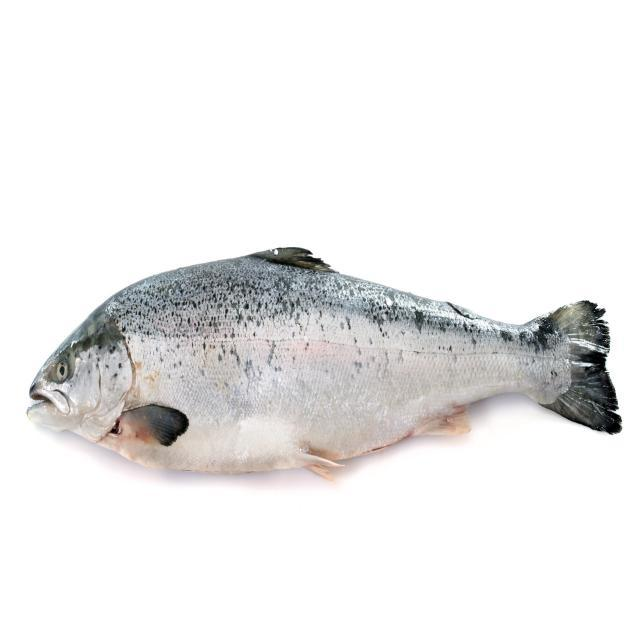fish: (26, 246, 620, 481)
